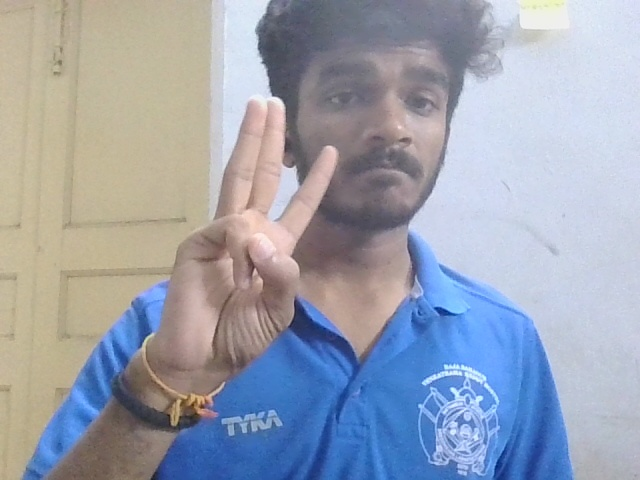water: (162, 86, 354, 384)
